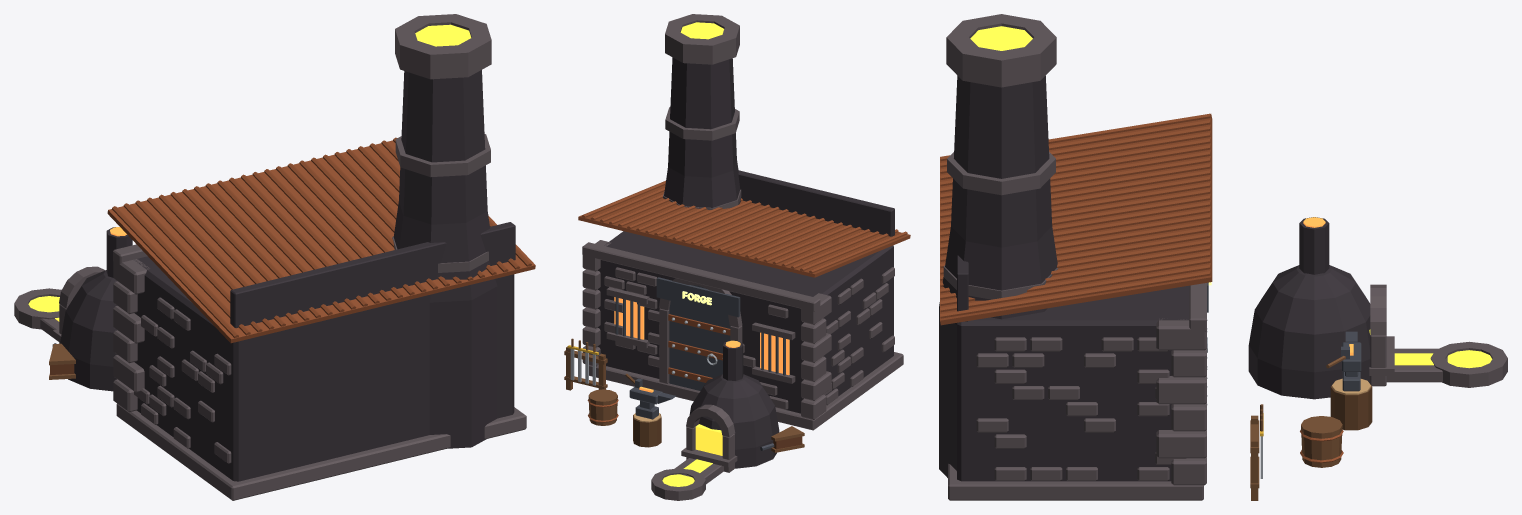
File: LavaForge.fbx
The picture shows the model from 3 angles, left to right: view 1: azimuth 30°, elevation 25°; view 2: azimuth 150°, elevation 25°; view 3: azimuth 270°, elevation 25°; orthographic projection. The views are drawn at different scales.
Visible parts, largest first — view 1: LavaForge_Basalt, LavaForge_Rust, LavaForge_BasaltLight, LavaForge_Lava, LavaForge_WoodDark; view 2: LavaForge_Basalt, LavaForge_BasaltLight, LavaForge_Rust, LavaForge_DarkMetal, LavaForge_WoodDark, LavaForge_Lava, LavaForge_Ember, LavaForge_Bark, LavaForge_Metal; view 3: LavaForge_Basalt, LavaForge_BasaltLight, LavaForge_Rust, LavaForge_WoodDark, LavaForge_Lava, LavaForge_Bark, LavaForge_DarkMetal.
Boxes of the visible parts, x1,y1,x2,y2 form: LavaForge_Basalt: (60, 70, 515, 481); LavaForge_Rust: (107, 137, 535, 343); LavaForge_BasaltLight: (14, 14, 526, 500); LavaForge_Lava: (28, 24, 471, 321); LavaForge_WoodDark: (49, 343, 75, 379); LavaForge_Basalt: (597, 57, 894, 468); LavaForge_BasaltLight: (582, 14, 903, 500); LavaForge_Rust: (578, 180, 910, 422); LavaForge_DarkMetal: (615, 277, 785, 450); LavaForge_WoodDark: (564, 338, 804, 452); LavaForge_Lava: (662, 22, 723, 486); LavaForge_Ember: (614, 297, 789, 392); LavaForge_Bark: (633, 414, 661, 447); LavaForge_Metal: (570, 317, 725, 385); LavaForge_Basalt: (939, 75, 1370, 481); LavaForge_BasaltLight: (943, 14, 1507, 500); LavaForge_Rust: (940, 113, 1343, 462); LavaForge_WoodDark: (1250, 356, 1345, 500); LavaForge_Lava: (970, 26, 1492, 368); LavaForge_Bark: (1330, 382, 1372, 430); LavaForge_DarkMetal: (1207, 282, 1361, 391).
Bounding box in the file's own units: 27.94 × 32 × 38.2.
